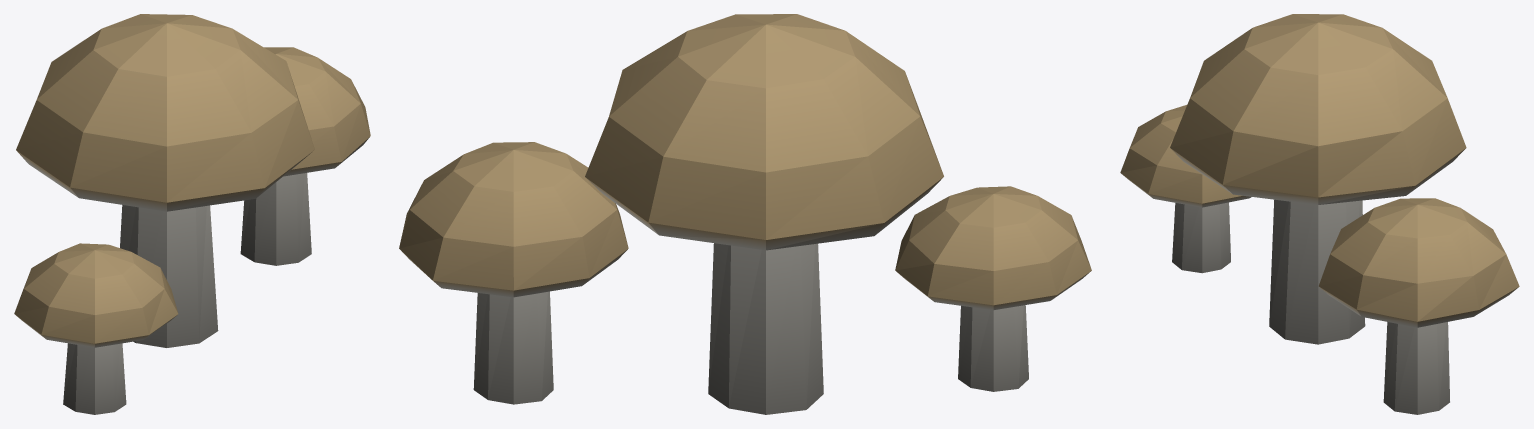
Rendered from pilz_hell_grupp.glb.
3 renders of one model, left to right at view 1: azimuth 30°, elevation 25°; view 2: azimuth 150°, elevation 25°; view 3: azimuth 270°, elevation 25°, orthographic. The views are drawn at different scales.
Visible parts, largest first — view 1: pilz_hell_grupp; view 2: pilz_hell_grupp; view 3: pilz_hell_grupp.
Part boxes in pixels (box(x1,y1,x2,y2)): pilz_hell_grupp: box(14, 14, 370, 414); pilz_hell_grupp: box(399, 14, 1091, 414); pilz_hell_grupp: box(1120, 14, 1519, 414).
Size of the model in its own units: 0.2926 by 0.19 by 0.229.
